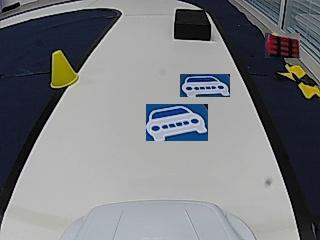block: (174, 9, 210, 40)
cone: (50, 52, 80, 88)
